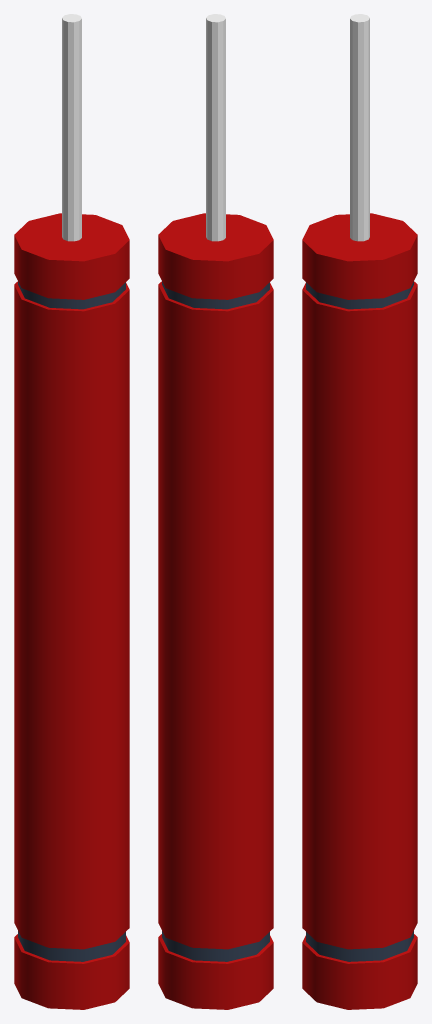
File: Unwrapped_TNT.fbx
3 views of the same model, side by side, from view 1: azimuth 30°, elevation 25°; view 2: azimuth 210°, elevation 25°; view 3: azimuth 330°, elevation 25° (orthographic).
Parts seen in each view (by area): view 1: Cylinder008; view 2: Cylinder008; view 3: Cylinder008.
Boxes of the visible parts, bbox=[...] form: Cylinder008: bbox=[14, 14, 129, 1009]; Cylinder008: bbox=[158, 14, 273, 1009]; Cylinder008: bbox=[302, 14, 417, 1009].
Bounding box in the file's own units: 8.78 × 80.65 × 8.35.
